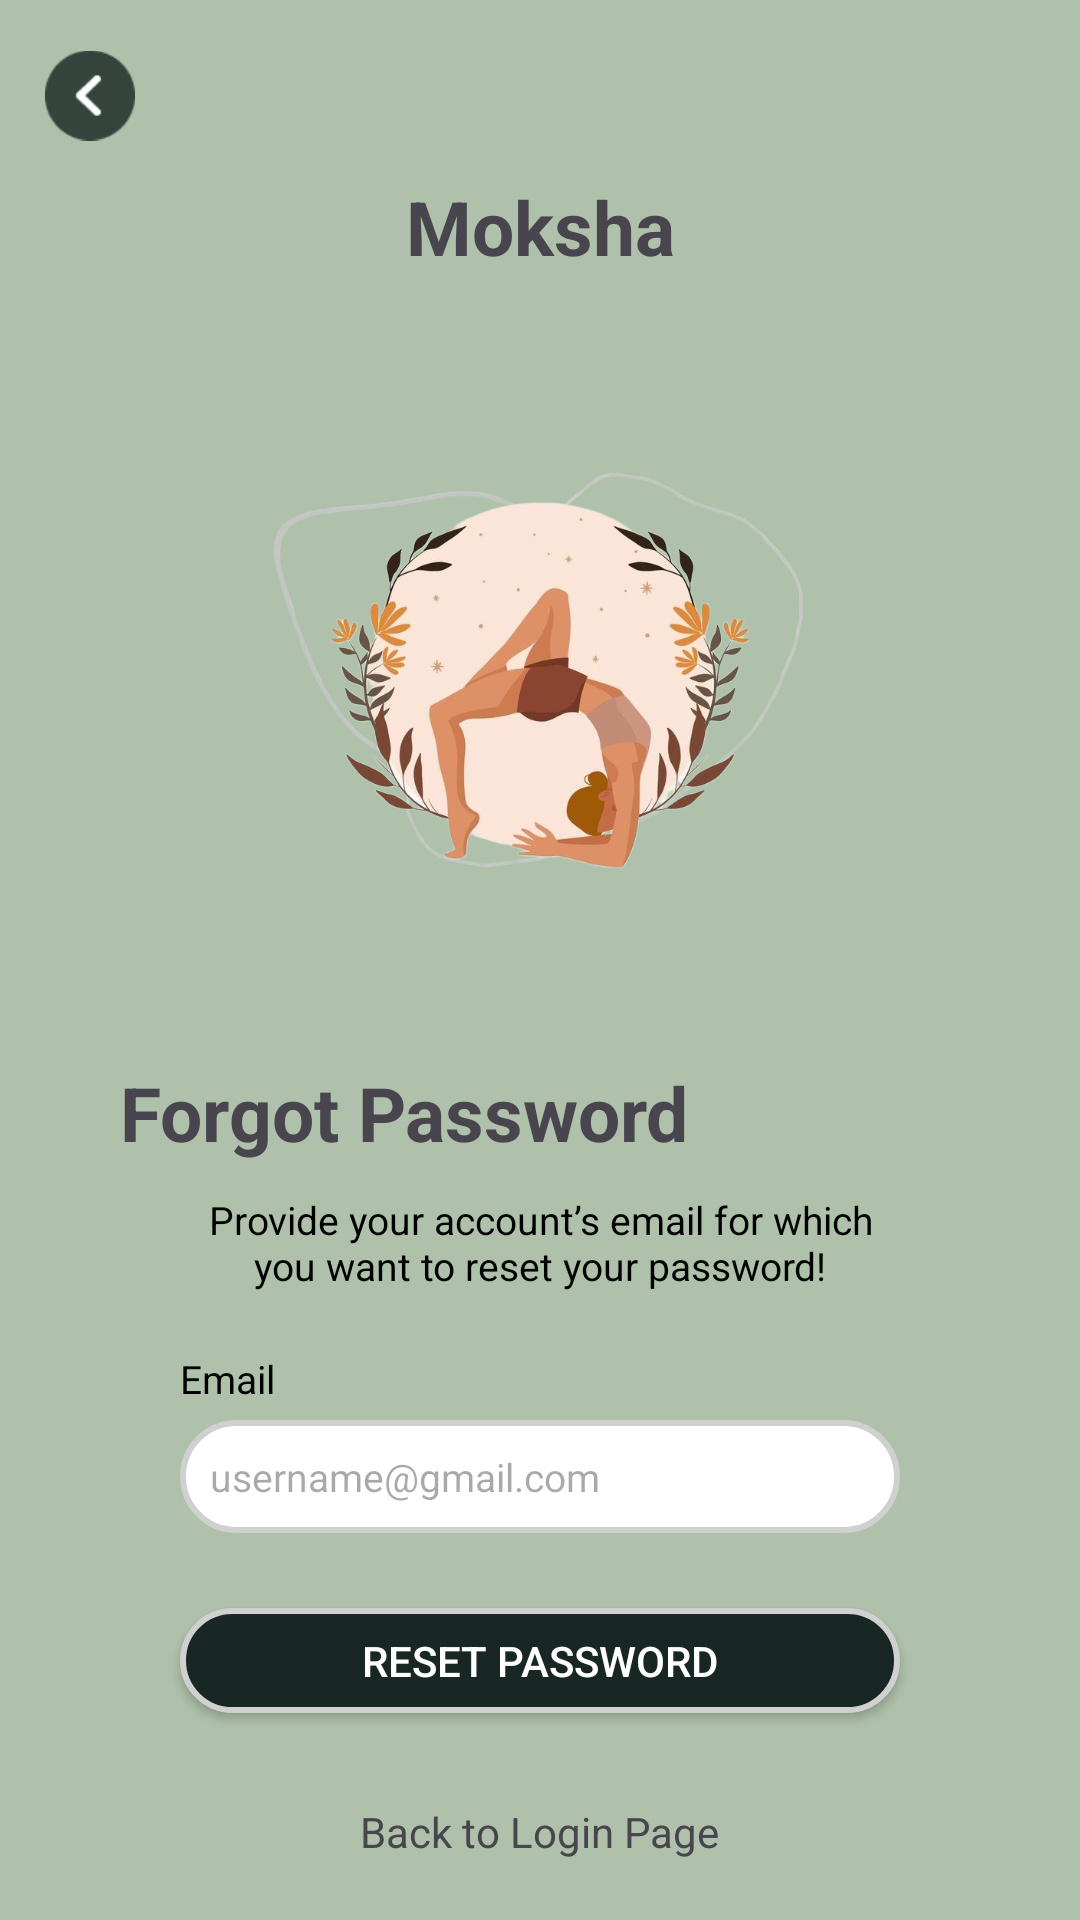

Icon bounding boxes for this 1080x1920 phone screenshot, format (x1, y1, x2, y2):
goback: (45, 51, 135, 141)
